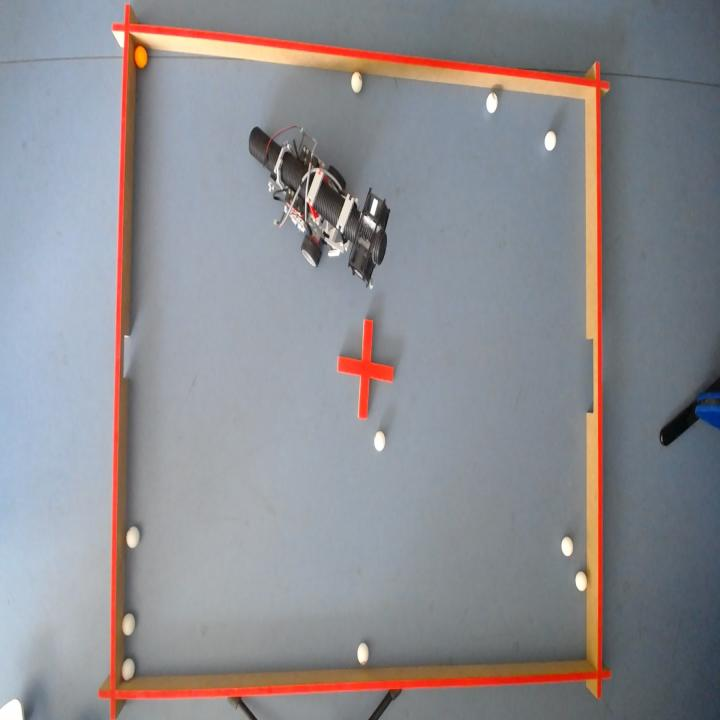orange: (134, 44, 147, 67)
robot: (249, 125, 390, 286)
white: (121, 613, 135, 636), (125, 526, 139, 548), (121, 658, 134, 681), (357, 643, 369, 666), (487, 90, 499, 112), (562, 536, 574, 557), (576, 571, 588, 592), (545, 129, 557, 150), (351, 70, 362, 91), (375, 431, 386, 451)
